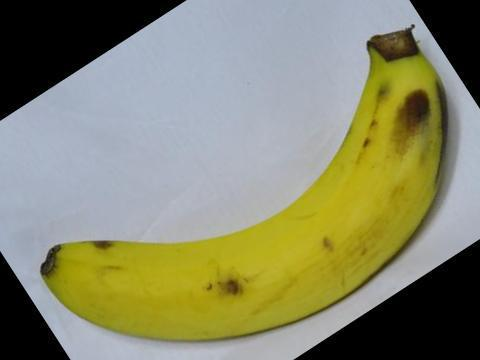freshripe: (27, 19, 451, 359)
